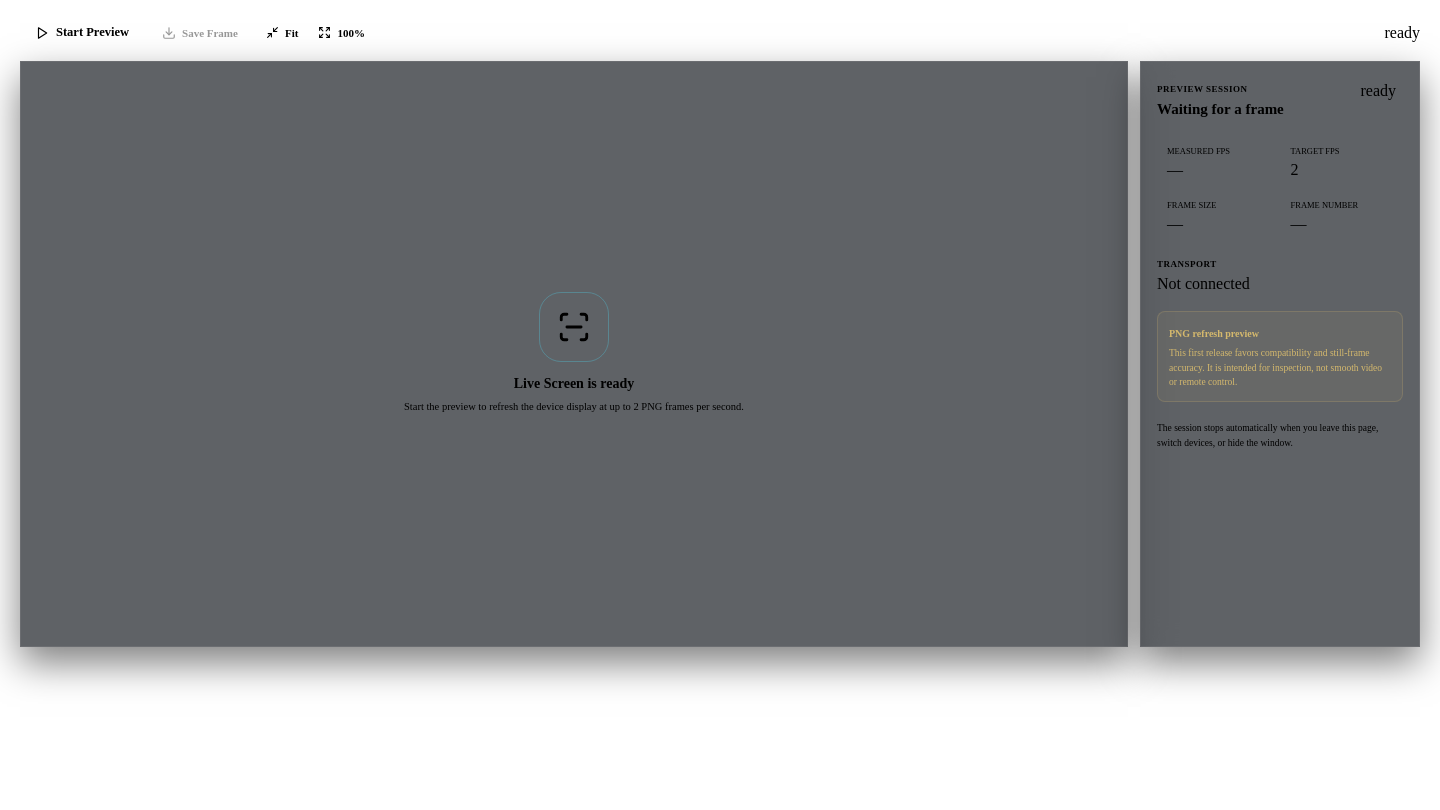
Test: Live Screen workflow › stops an active preview and keeps the current still visible
Step 1. Click the button "Start Preview" → [82, 32], box [20,16,144,49]
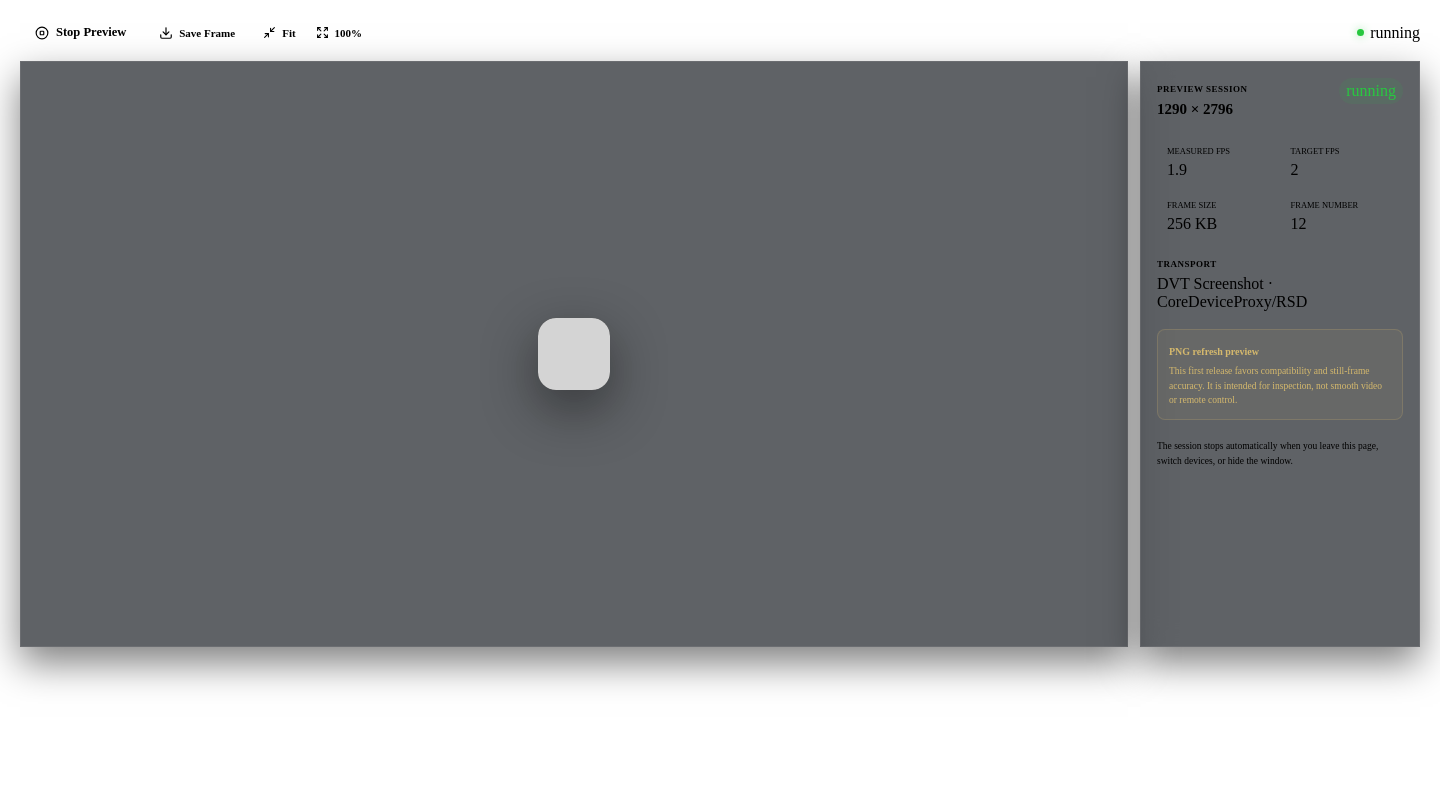
Step 2. Click the button "Stop Preview" → [81, 32], box [20,16,141,49]
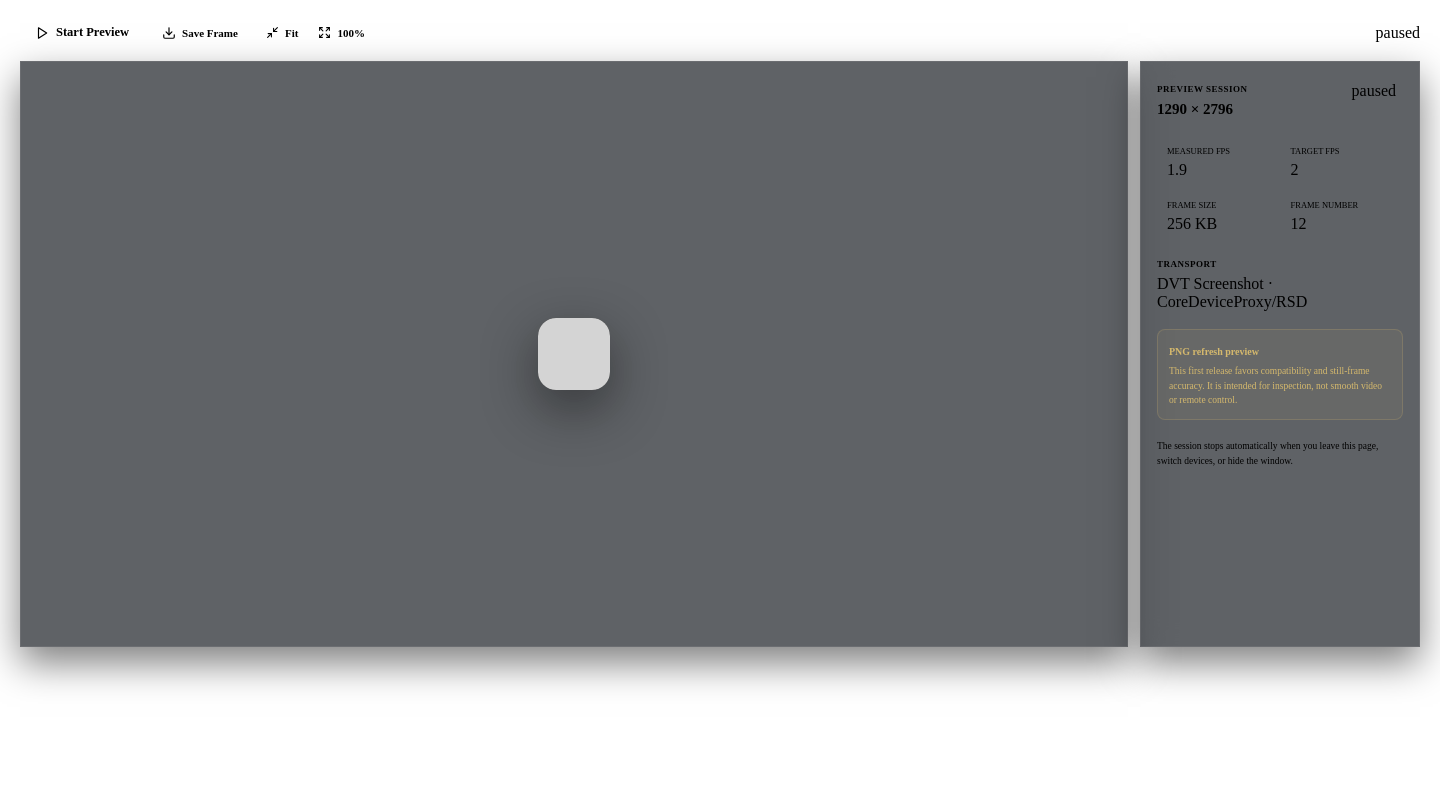
Now the text "paused" is shown 2 times, box [1376,24,1420,40]; [1352,82,1396,99]
